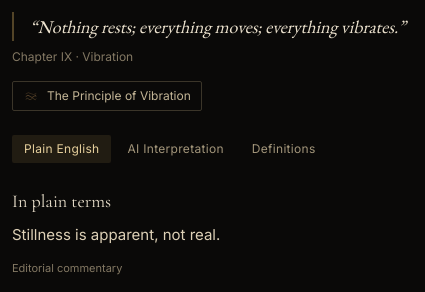
Test: AnnotationContent › switches tab content on selection
The width and height of the screenshot is (425, 292).
Click the tab "Definitions" at (284, 149), box x1=240 y1=135 x2=328 y2=163
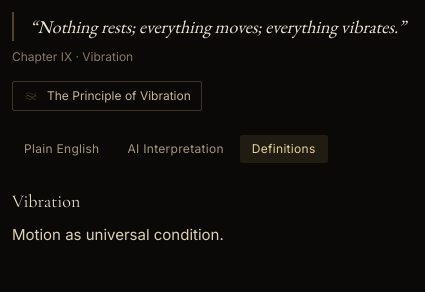
Check: the text "Motion as universal condition." is shown, box x1=12 y1=225 x2=224 y2=244
